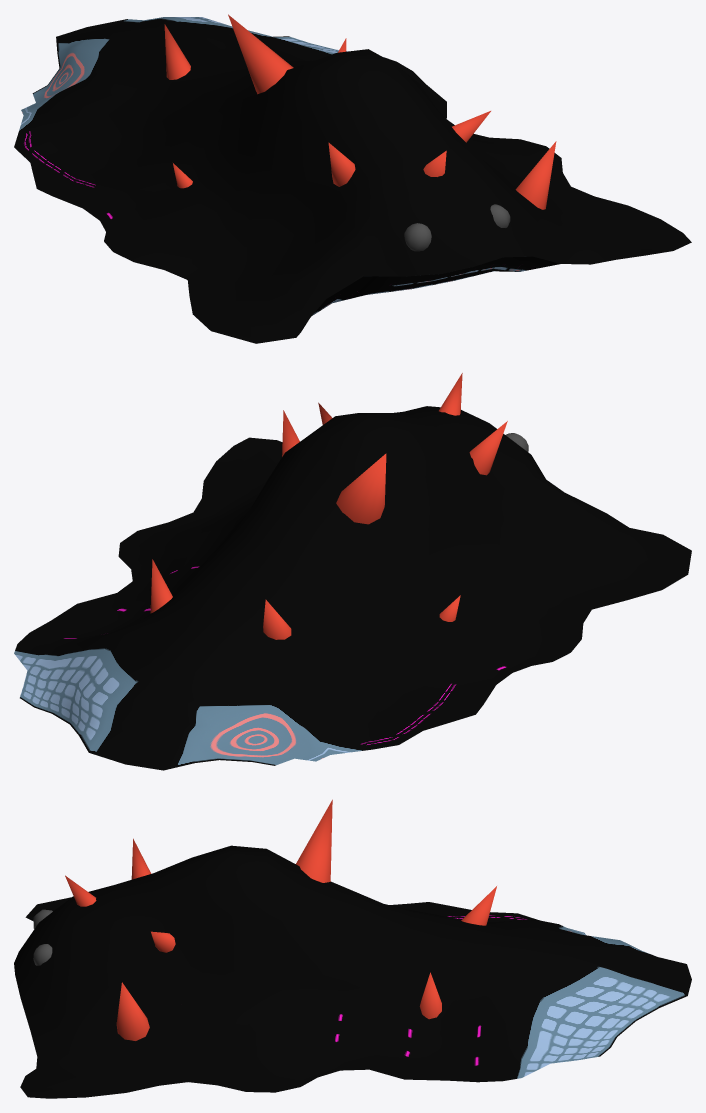
File: AMF_EN_test.fbx
The picture shows the model from 3 angles, top to bottom: view 1: azimuth 30°, elevation 25°; view 2: azimuth 150°, elevation 25°; view 3: azimuth 270°, elevation 25°; orthographic projection. The views are drawn at different scales.
Parts seen in each view (by area): view 1: pPlane1, pCone3, pCone6, pCone4, pCone2, pSphere2; view 2: pPlane1, pCone3, pCone2, pCone4, pCone7; view 3: pPlane1, pCone3, pCone6, pCone7, pCone4.
Boxes of the visible parts, x1,y1,x2,y2 form: pPlane1: (14, 17, 691, 343); pCone3: (228, 14, 293, 94); pCone6: (515, 141, 556, 209); pCone4: (164, 24, 190, 79); pCone2: (328, 142, 355, 186); pSphere2: (404, 223, 431, 251); pPlane1: (14, 406, 691, 770); pCone3: (336, 453, 386, 524); pCone2: (469, 421, 507, 475); pCone4: (263, 599, 291, 639); pCone7: (150, 559, 172, 613); pPlane1: (14, 845, 691, 1098); pCone3: (296, 799, 332, 882); pCone6: (116, 982, 149, 1040); pCone7: (419, 972, 441, 1019); pCone4: (461, 886, 496, 925).
Bounding box in the file's own units: 34.96 × 13.43 × 49.19.
